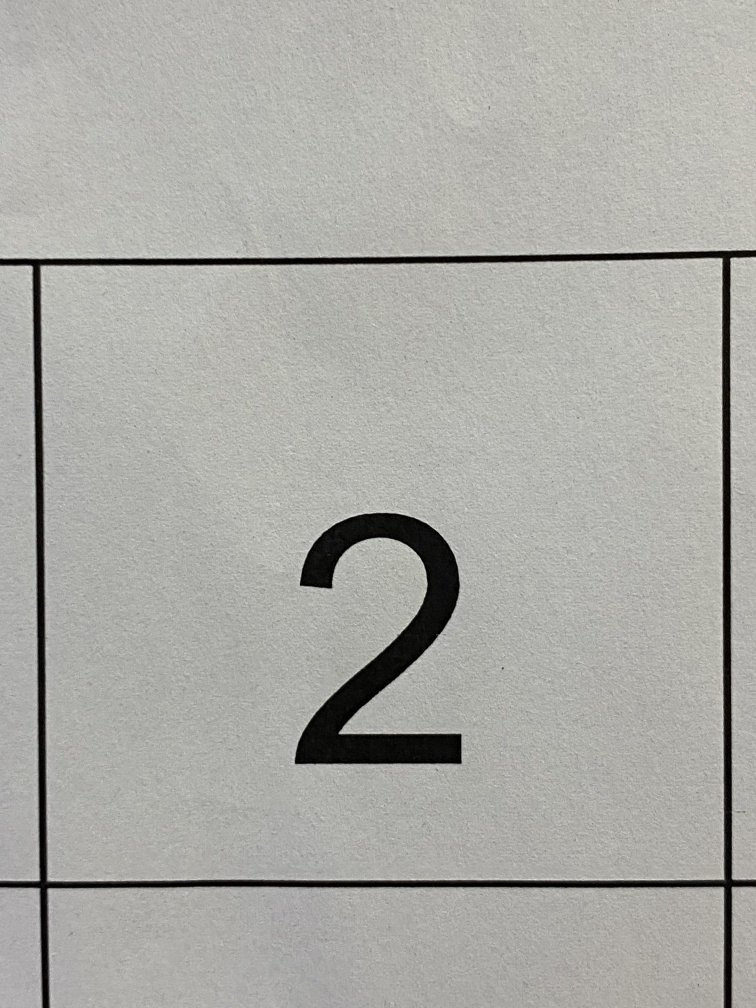two: (251, 463, 517, 842)
